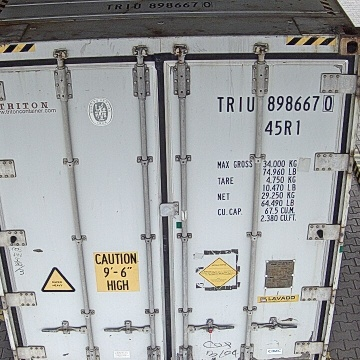serial_id: (217, 95, 334, 112)
